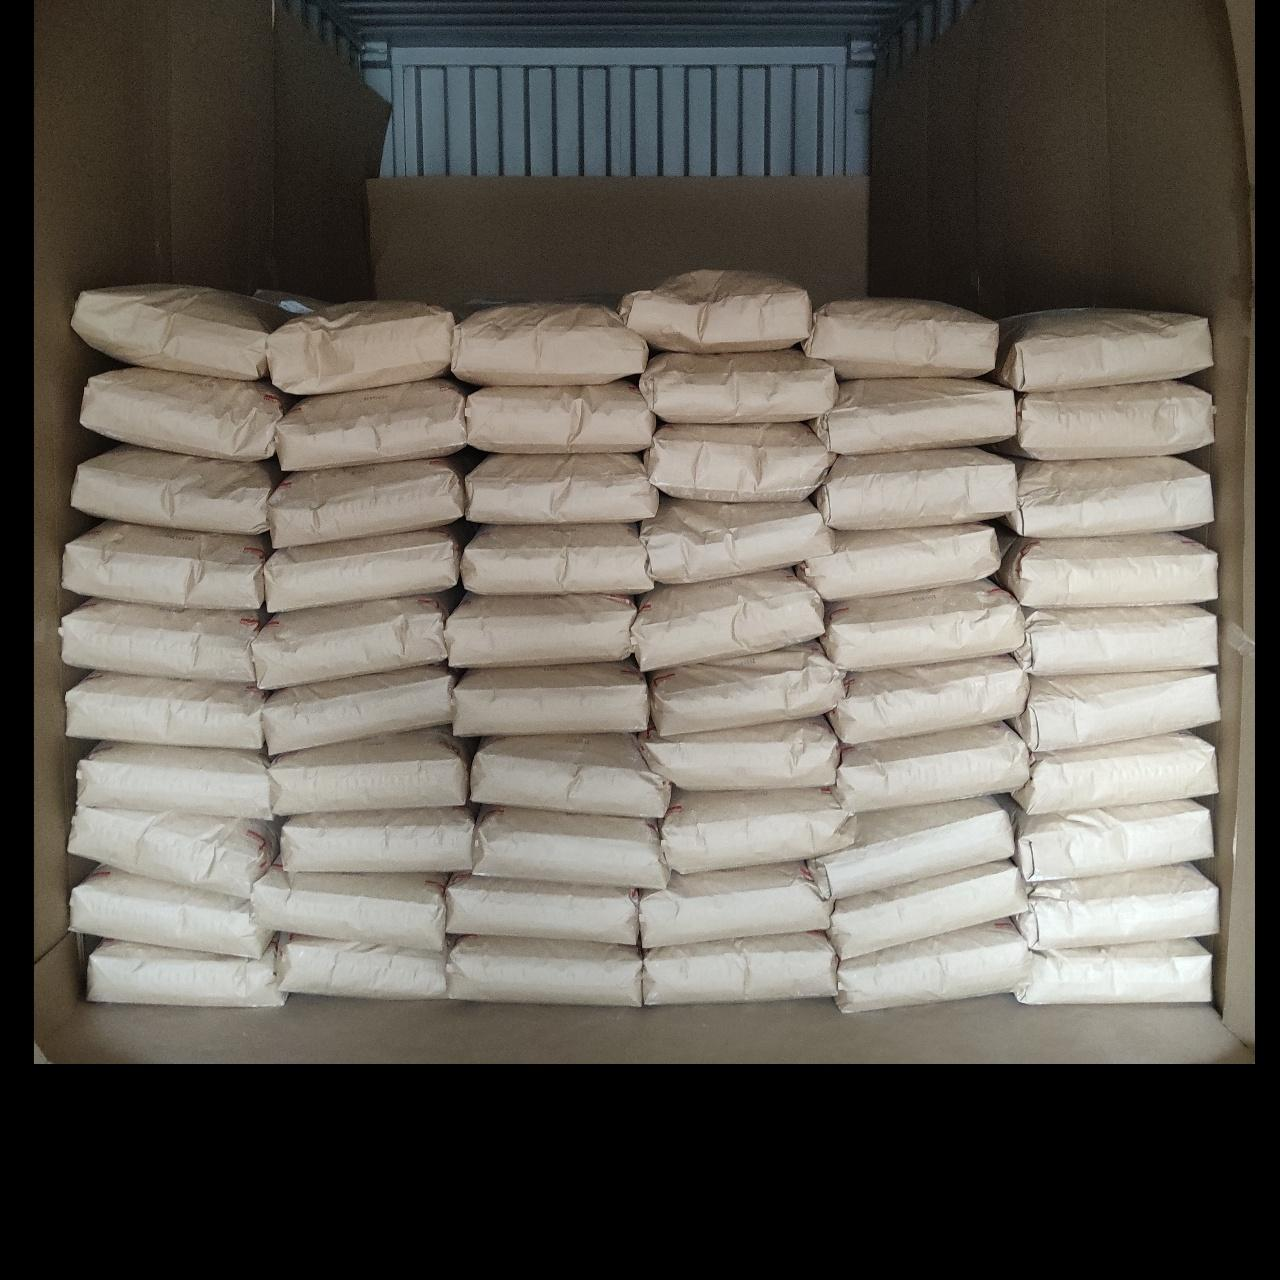sack: (72, 284, 290, 379), (810, 798, 1012, 898), (634, 572, 822, 670), (82, 368, 286, 458), (74, 445, 278, 535), (254, 594, 452, 686), (830, 864, 1022, 958), (70, 806, 274, 894), (651, 642, 844, 734), (824, 583, 1022, 670), (266, 301, 454, 394), (996, 309, 1210, 390), (64, 522, 268, 606), (72, 870, 270, 956), (836, 922, 1030, 1010), (275, 380, 462, 470), (1014, 672, 1218, 753), (272, 730, 470, 813), (836, 724, 1028, 810), (832, 658, 1026, 742), (1017, 866, 1216, 948), (270, 458, 464, 542), (252, 866, 445, 949), (266, 527, 462, 610), (264, 666, 454, 750), (62, 600, 263, 680), (1014, 734, 1214, 813), (644, 498, 830, 583), (472, 736, 668, 816), (1016, 802, 1212, 881), (620, 270, 812, 350), (1008, 458, 1212, 535), (998, 535, 1214, 606), (642, 864, 830, 946), (474, 808, 668, 886), (452, 304, 646, 382), (816, 450, 1014, 526), (1014, 382, 1212, 458), (663, 790, 850, 870), (68, 674, 263, 750), (799, 524, 1000, 598), (813, 380, 1014, 452), (804, 300, 996, 374), (79, 744, 270, 818), (646, 424, 830, 501), (640, 350, 836, 422), (456, 662, 646, 734), (642, 719, 838, 788), (1017, 606, 1216, 674), (448, 594, 634, 666), (467, 382, 654, 452), (644, 934, 835, 1002), (88, 940, 282, 1006), (448, 938, 638, 1005), (445, 878, 638, 942), (468, 456, 654, 522), (1014, 940, 1210, 1002), (464, 526, 651, 590), (282, 808, 470, 870), (278, 937, 445, 998)
